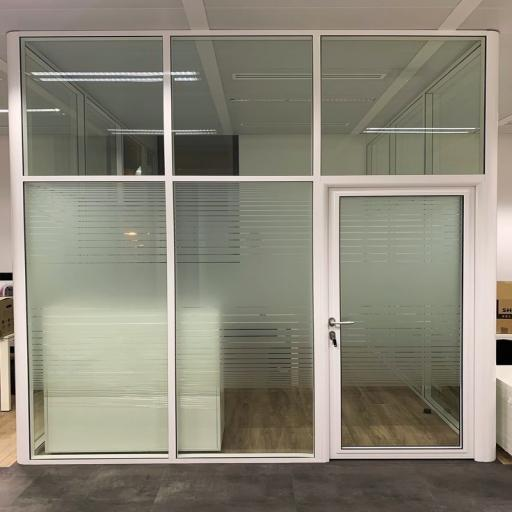corridor: (329, 189, 472, 457)
elevator: (19, 33, 484, 458), (25, 183, 167, 455), (174, 183, 313, 456), (339, 196, 463, 448), (322, 37, 484, 175), (22, 37, 163, 175), (172, 37, 312, 175)
